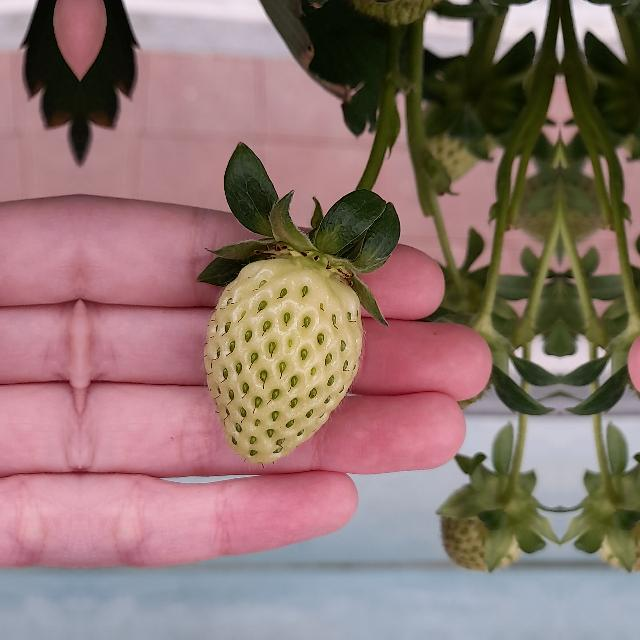Health_25: (204, 257, 362, 463)
